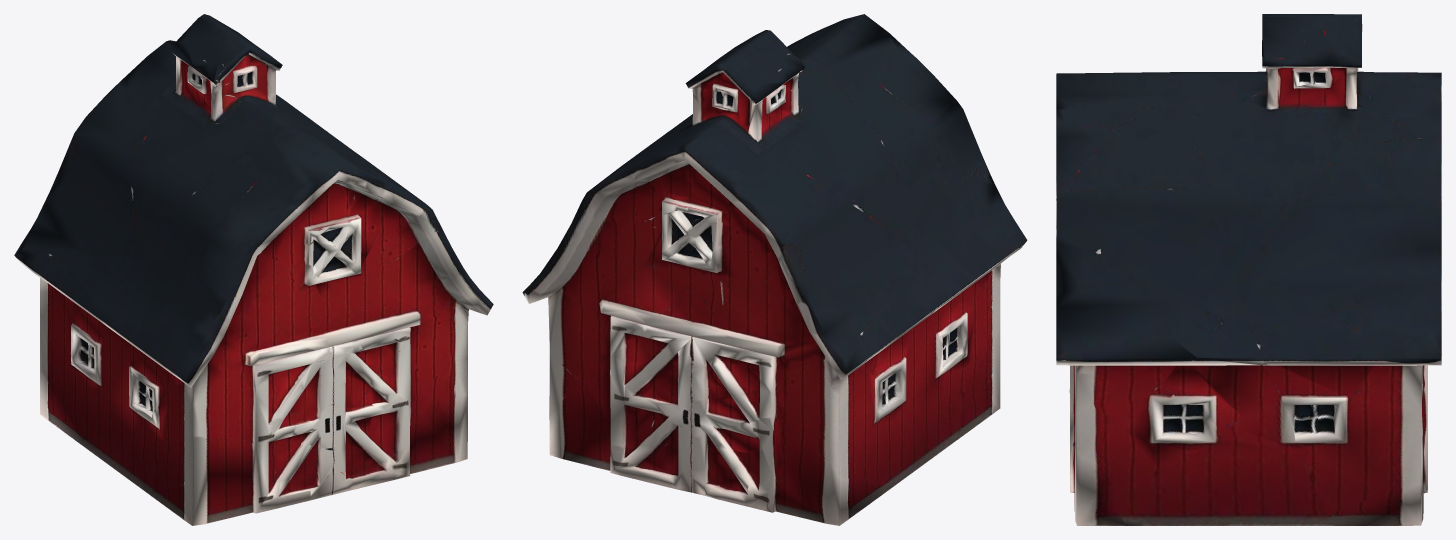
The model's file is Red_Barn_optimized.glb.
The picture shows the model from 3 angles, left to right: view 1: azimuth 30°, elevation 25°; view 2: azimuth 150°, elevation 25°; view 3: azimuth 270°, elevation 25°; orthographic projection. The views are drawn at different scales.
Bounding box in the file's own units: 1.59 × 1.9 × 1.52.
1 material, 1 textured.
